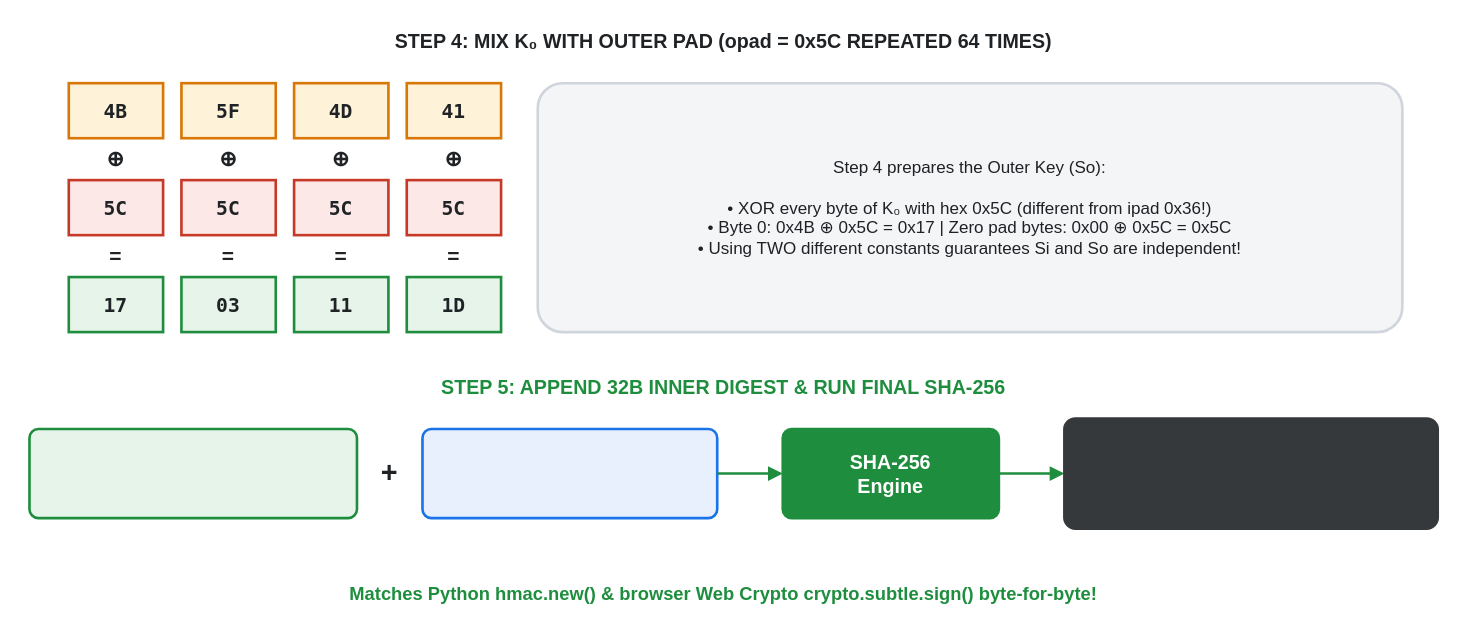
Some shapes in this 1461 by 637 pixel diagram are drawn without their labels. The centre of each missing label's shape, as x and y in pixels:
32B Inner Digest E12AD0DA...BC2883: pixel 569 473
64B Outer Key (So) 17 03 11 1D ... 5C 5C: pixel 193 473
FINAL HMAC TAG (32B) 90FF0292B51680F9 5FE5986EE2D5652D ...60113DD0DC1C672C: pixel 1250 473
